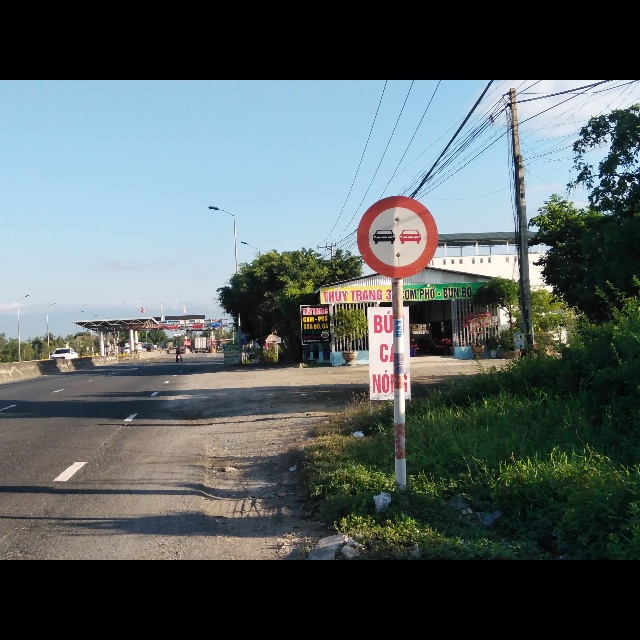Cấm vượt: (355, 195, 440, 279)
